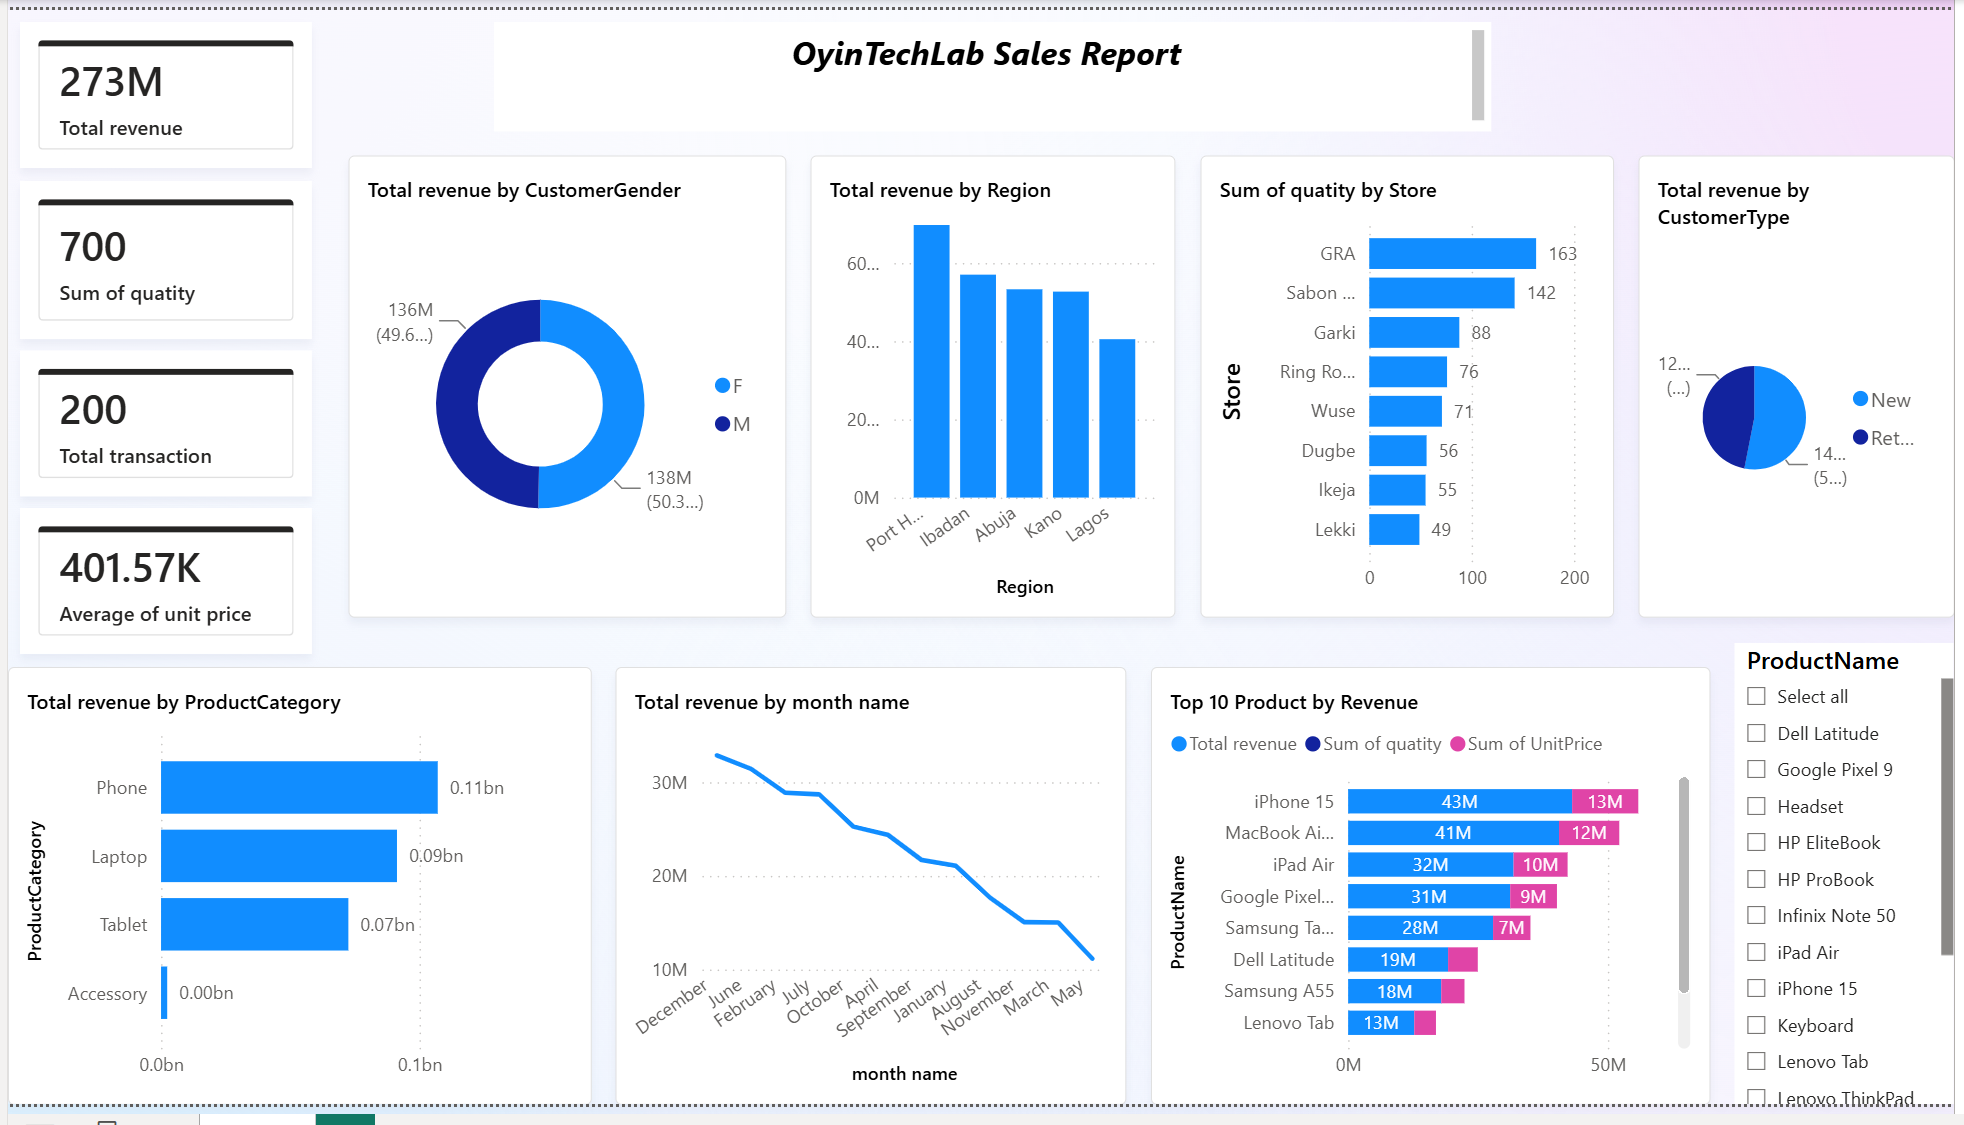

The dashboard page shown, as its layout file describes it:
{"tool":"powerbi","page":{"name":"Page 4","canvas":[1280,720],"ordinal":0},"visuals":[{"type":"cardVisual","fields":{"Data":["Retail_Sales_200.Total revenue"]},"box":[8,8,192,96],"z":0},{"type":"cardVisual","fields":{"Data":["Sum(Retail_Sales_200.quatity)"]},"box":[8,112,192,104],"z":1000},{"type":"cardVisual","fields":{"Data":["Retail_Sales_200.Total transaction"]},"box":[8,224,192,96],"z":2000},{"type":"cardVisual","fields":{"Data":["Retail_Sales_200.Average of unit price"]},"box":[8,328,192,96],"z":3000},{"type":"clusteredColumnChart","fields":{"Category":["Retail_Sales_200.Region"],"Y":["Retail_Sales_200.Total revenue"]},"box":[528,96,240,304],"z":4000},{"type":"clusteredBarChart","fields":{"Category":["Retail_Sales_200.ProductCategory"],"Y":["Retail_Sales_200.Total revenue"]},"box":[0,432,384,288],"z":5000},{"type":"donutChart","fields":{"Category":["Retail_Sales_200.CustomerGender"],"Y":["Retail_Sales_200.Total revenue"]},"box":[224,96,288,304],"z":6000},{"type":"lineChart","fields":{"Category":["Retail_Sales_200.month name"],"Y":["Retail_Sales_200.Total revenue"]},"box":[400,432,336,288],"z":7000},{"type":"clusteredBarChart","fields":{"Category":["Retail_Sales_200.Store"],"Y":["Sum(Retail_Sales_200.quatity)"]},"box":[784,96,272,304],"z":8000},{"type":"slicer","fields":{"Values":["Retail_Sales_200.ProductName"]},"box":[1136,416,144,304],"z":9000},{"type":"textbox","box":[320,8,656,72],"z":10000},{"type":"pieChart","fields":{"Category":["Retail_Sales_200.CustomerType"],"Y":["Retail_Sales_200.Total revenue"]},"box":[1072,96,208,304],"z":10001},{"type":"barChart","title":"Top 10 Product by Revenue","fields":{"Category":["Retail_Sales_200.ProductName"],"Y":["Retail_Sales_200.Total revenue","Sum(Retail_Sales_200.quatity)","Sum(Retail_Sales_200.UnitPrice)"]},"box":[752,432,368,288],"z":10002}]}

Visuals, with their boxes in screenshot pixels (x1, y1, x2, y2), scaled from the page's 1280x720 canvas onto the 1964x1125 screenshot:
cardVisual - Retail_Sales_200.Total revenue: (12,12,307,162)
cardVisual - Sum(Retail_Sales_200.quatity): (12,175,307,338)
cardVisual - Retail_Sales_200.Total transaction: (12,350,307,500)
cardVisual - Retail_Sales_200.Average of unit price: (12,512,307,662)
clusteredColumnChart - Retail_Sales_200.Region x Retail_Sales_200.Total revenue: (810,150,1178,625)
clusteredBarChart - Retail_Sales_200.ProductCategory x Retail_Sales_200.Total revenue: (0,675,589,1124)
donutChart - Retail_Sales_200.CustomerGender x Retail_Sales_200.Total revenue: (344,150,786,625)
lineChart - Retail_Sales_200.month name x Retail_Sales_200.Total revenue: (614,675,1129,1124)
clusteredBarChart - Retail_Sales_200.Store x Sum(Retail_Sales_200.quatity): (1203,150,1620,625)
slicer - Retail_Sales_200.ProductName: (1743,650,1963,1124)
textbox: (491,12,1498,125)
pieChart - Retail_Sales_200.CustomerType x Retail_Sales_200.Total revenue: (1645,150,1963,625)
"Top 10 Product by Revenue" barChart: (1154,675,1718,1124)
